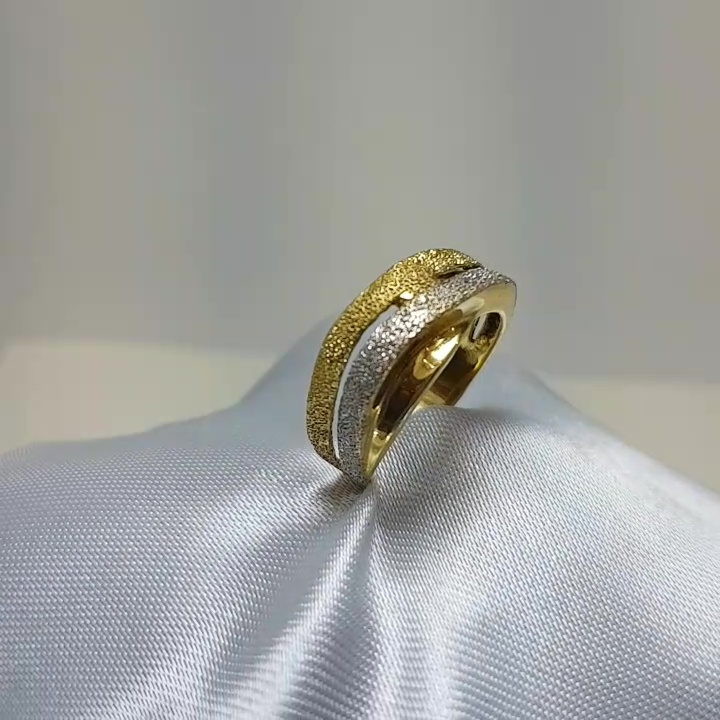Ring 5: (288, 237, 516, 511)
